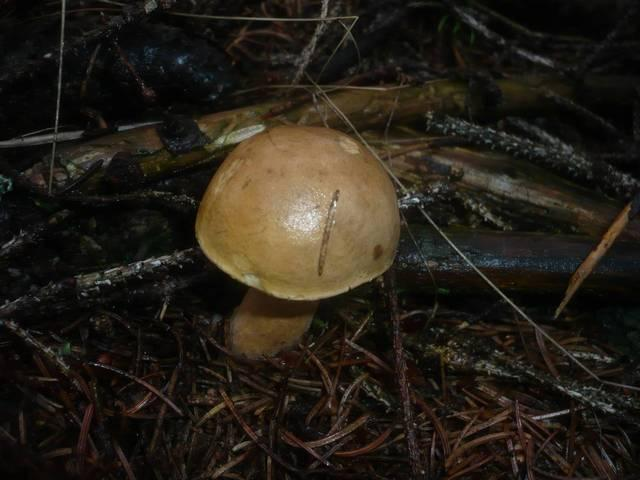poisonous_mushroom: (193, 122, 402, 362)
